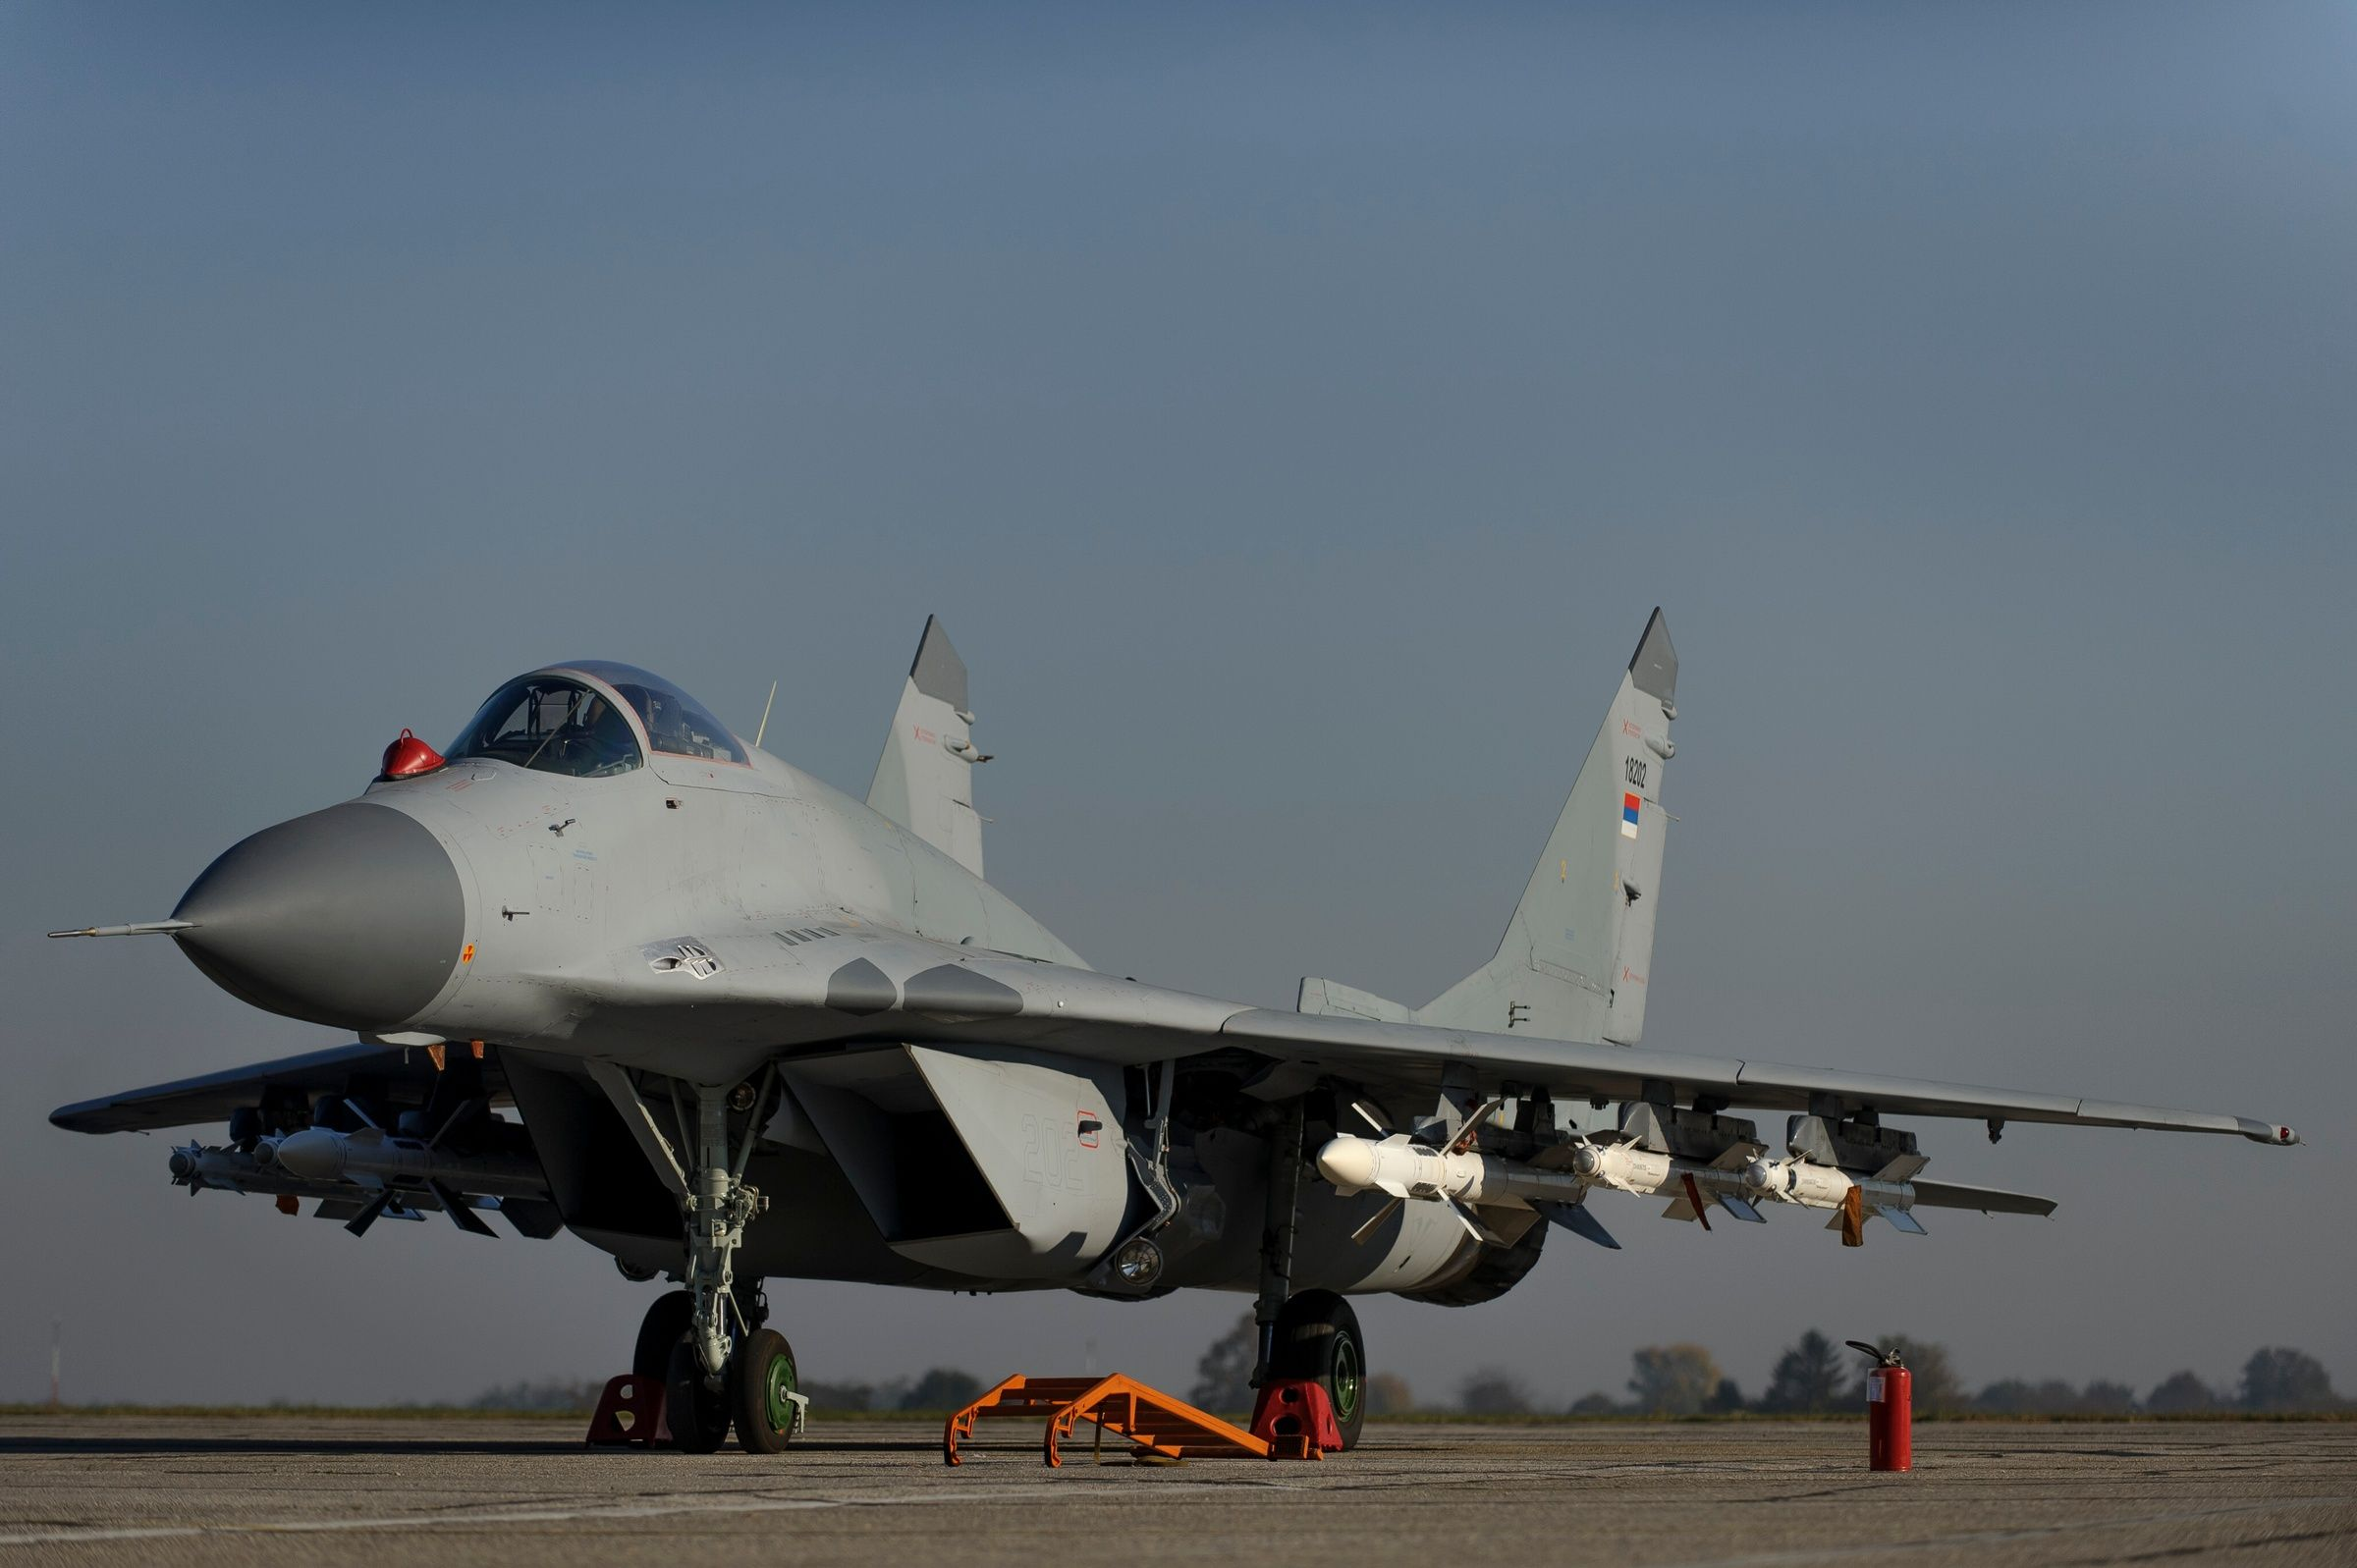Mig-29: (47, 399, 2315, 1501)
